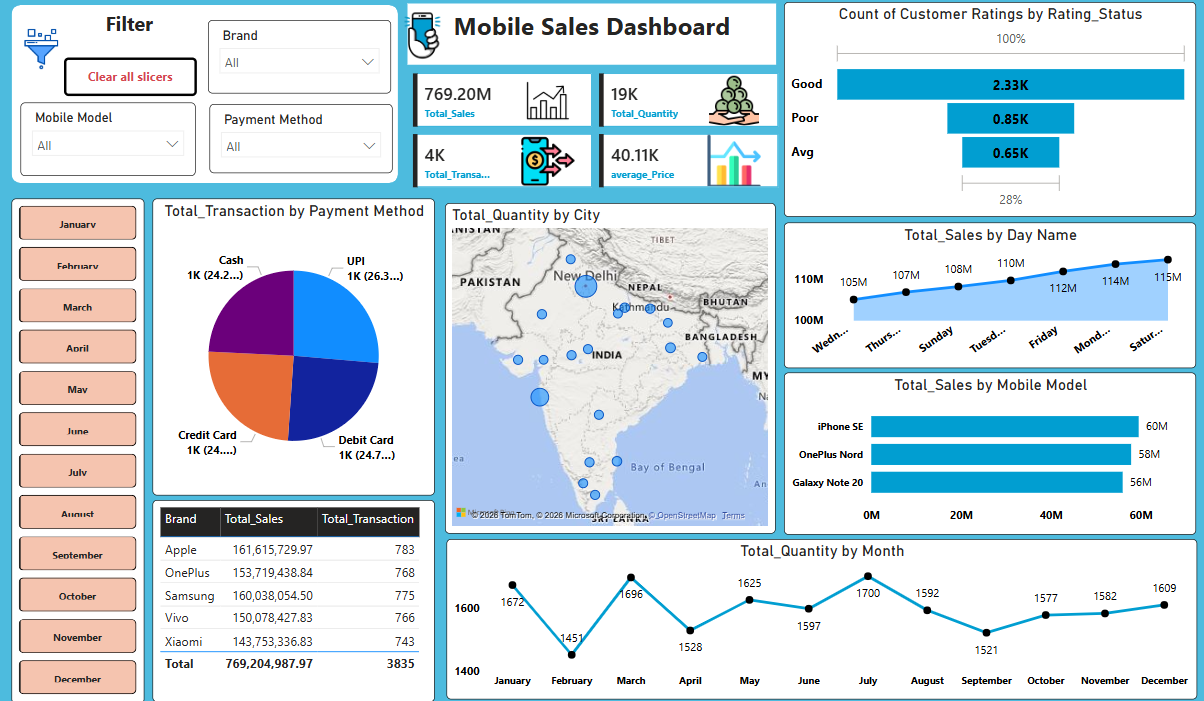

The page's visual inventory and layout, read from the dashboard file:
{"tool":"powerbi","page":{"name":"Dashboard","canvas":[1316,773],"ordinal":0},"visuals":[{"type":"shape","box":[14,10.5,420.9,193.8],"z":0},{"type":"textbox","box":[445.3,8.7,401.6,66.4],"z":1000},{"type":"image","box":[418.3,10,88.3,65],"z":2000},{"type":"slicer","fields":{"Values":["Sales Data.Mobile Model"]},"box":[24.4,115.2,190.3,80.3],"z":3000},{"type":"slicer","fields":{"Values":["Sales Data.Payment Method"]},"box":[230.5,117,199.1,75.1],"z":4000},{"type":"slicer","fields":{"Values":["Sales Data.Brand"]},"box":[228.8,26.2,199.1,80.3],"z":5000},{"type":"advancedSlicerVisual","fields":{"Values":["Custom-Calender.Date.Variation.Date Hierarchy.Month"]},"box":[14,220,144.9,550.1],"z":6000},{"type":"map","fields":{"Category":["Sales Data.City"],"Size":["Sales Data.Total_Quantity"]},"box":[487.2,225.3,359.7,359.7],"z":7000},{"type":"lineChart","fields":{"Category":["Custom-Calender.Date.Variation.Date Hierarchy.Month"],"Y":["Sales Data.Total_Quantity"]},"box":[489,592,817.3,174.6],"z":8000},{"type":"pieChart","fields":{"Category":["Sales Data.Payment Method"],"Y":["Sales Data.Total_Transaction"]},"box":[167.6,220,307.3,323.1],"z":9000},{"type":"areaChart","fields":{"Y":["Sales Data.Total_Sales"],"Category":["Custom-Calender.Day Name"]},"box":[855.7,246.2,448.8,158.9],"z":10000},{"type":"clusteredBarChart","fields":{"Category":["Sales Data.Mobile Model"],"Y":["Sales Data.Total_Sales"]},"box":[855.7,410.4,448.8,176.4],"z":11000},{"type":"funnel","fields":{"Category":["Sales Data.Rating_Status"],"Y":["CountNonNull(Sales Data.Customer Ratings)"]},"box":[855.7,7,448.8,234],"z":12000},{"type":"tableEx","fields":{"Values":["Sales Data.Brand","Sales Data.Total_Sales","Sales Data.Total_Transaction"]},"box":[167.6,548.3,307.3,220],"z":13000},{"type":"cardVisual","fields":{"Data":["Sales Data.Total_Sales","Sales Data.Total_Quantity","Sales Data.Total_Transaction","Sales Data.average_Price"]},"box":[434.8,66.4,433.1,158.9],"z":14000},{"type":"image","box":[24.4,10.5,45.4,96],"z":14001},{"type":"textbox","box":[69.8,10.5,144.9,55.9],"z":14002},{"type":"actionButton","box":[71.6,66.4,144.9,41.9],"z":14003}]}

Visuals, with their boxes in screenshot pixels (x1, y1, x2, y2), scaled from the page's 1316x773 canvas onto the 1204x701 screenshot:
shape: bbox(13, 10, 398, 185)
textbox: bbox(407, 8, 775, 68)
image: bbox(383, 9, 463, 68)
slicer - Sales Data.Mobile Model: bbox(22, 104, 196, 177)
slicer - Sales Data.Payment Method: bbox(211, 106, 393, 174)
slicer - Sales Data.Brand: bbox(209, 24, 391, 97)
advancedSlicerVisual - Custom-Calender.Date.Variation.Date Hierarchy.Month: bbox(13, 200, 145, 698)
map - Sales Data.City x Sales Data.Total_Quantity: bbox(446, 204, 775, 531)
lineChart - Custom-Calender.Date.Variation.Date Hierarchy.Month x Sales Data.Total_Quantity: bbox(447, 537, 1195, 695)
pieChart - Sales Data.Payment Method x Sales Data.Total_Transaction: bbox(153, 200, 434, 493)
areaChart - Sales Data.Total_Sales x Custom-Calender.Day Name: bbox(783, 223, 1193, 367)
clusteredBarChart - Sales Data.Mobile Model x Sales Data.Total_Sales: bbox(783, 372, 1193, 532)
funnel - Sales Data.Rating_Status x CountNonNull(Sales Data.Customer Ratings): bbox(783, 6, 1193, 219)
tableEx - Sales Data.Brand x Sales Data.Total_Sales: bbox(153, 497, 434, 697)
cardVisual - Sales Data.Total_Sales x Sales Data.Total_Quantity: bbox(398, 60, 794, 204)
image: bbox(22, 10, 64, 97)
textbox: bbox(64, 10, 196, 60)
actionButton: bbox(66, 60, 198, 98)
